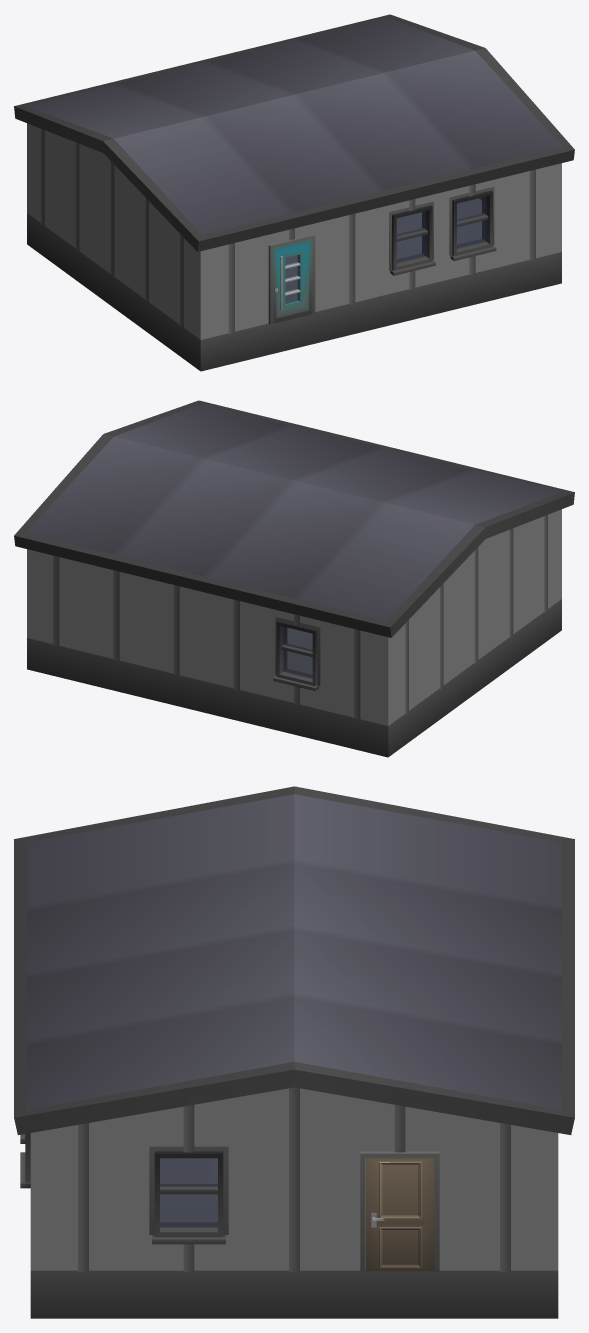
The model's file is rumah-warga5.glb.
The picture shows the model from 3 angles, top to bottom: view 1: azimuth 30°, elevation 25°; view 2: azimuth 150°, elevation 25°; view 3: azimuth 270°, elevation 25°; orthographic projection. The views are drawn at different scales.
Parts seen in each view (by area): view 1: Object_2, Object_3; view 2: Object_2, Object_3; view 3: Object_2, Object_3.
Boxes of the visible parts, <box> form: Object_2: <box>14,14,574,371</box>; Object_3: <box>285,196,486,303</box>; Object_2: <box>14,400,574,757</box>; Object_3: <box>283,627,312,678</box>; Object_2: <box>14,786,574,1318</box>; Object_3: <box>160,1158,217,1227</box>.
Bounding box in the file's own units: 12.7 × 5.37 × 10.63.
2 materials, 1 textured.
